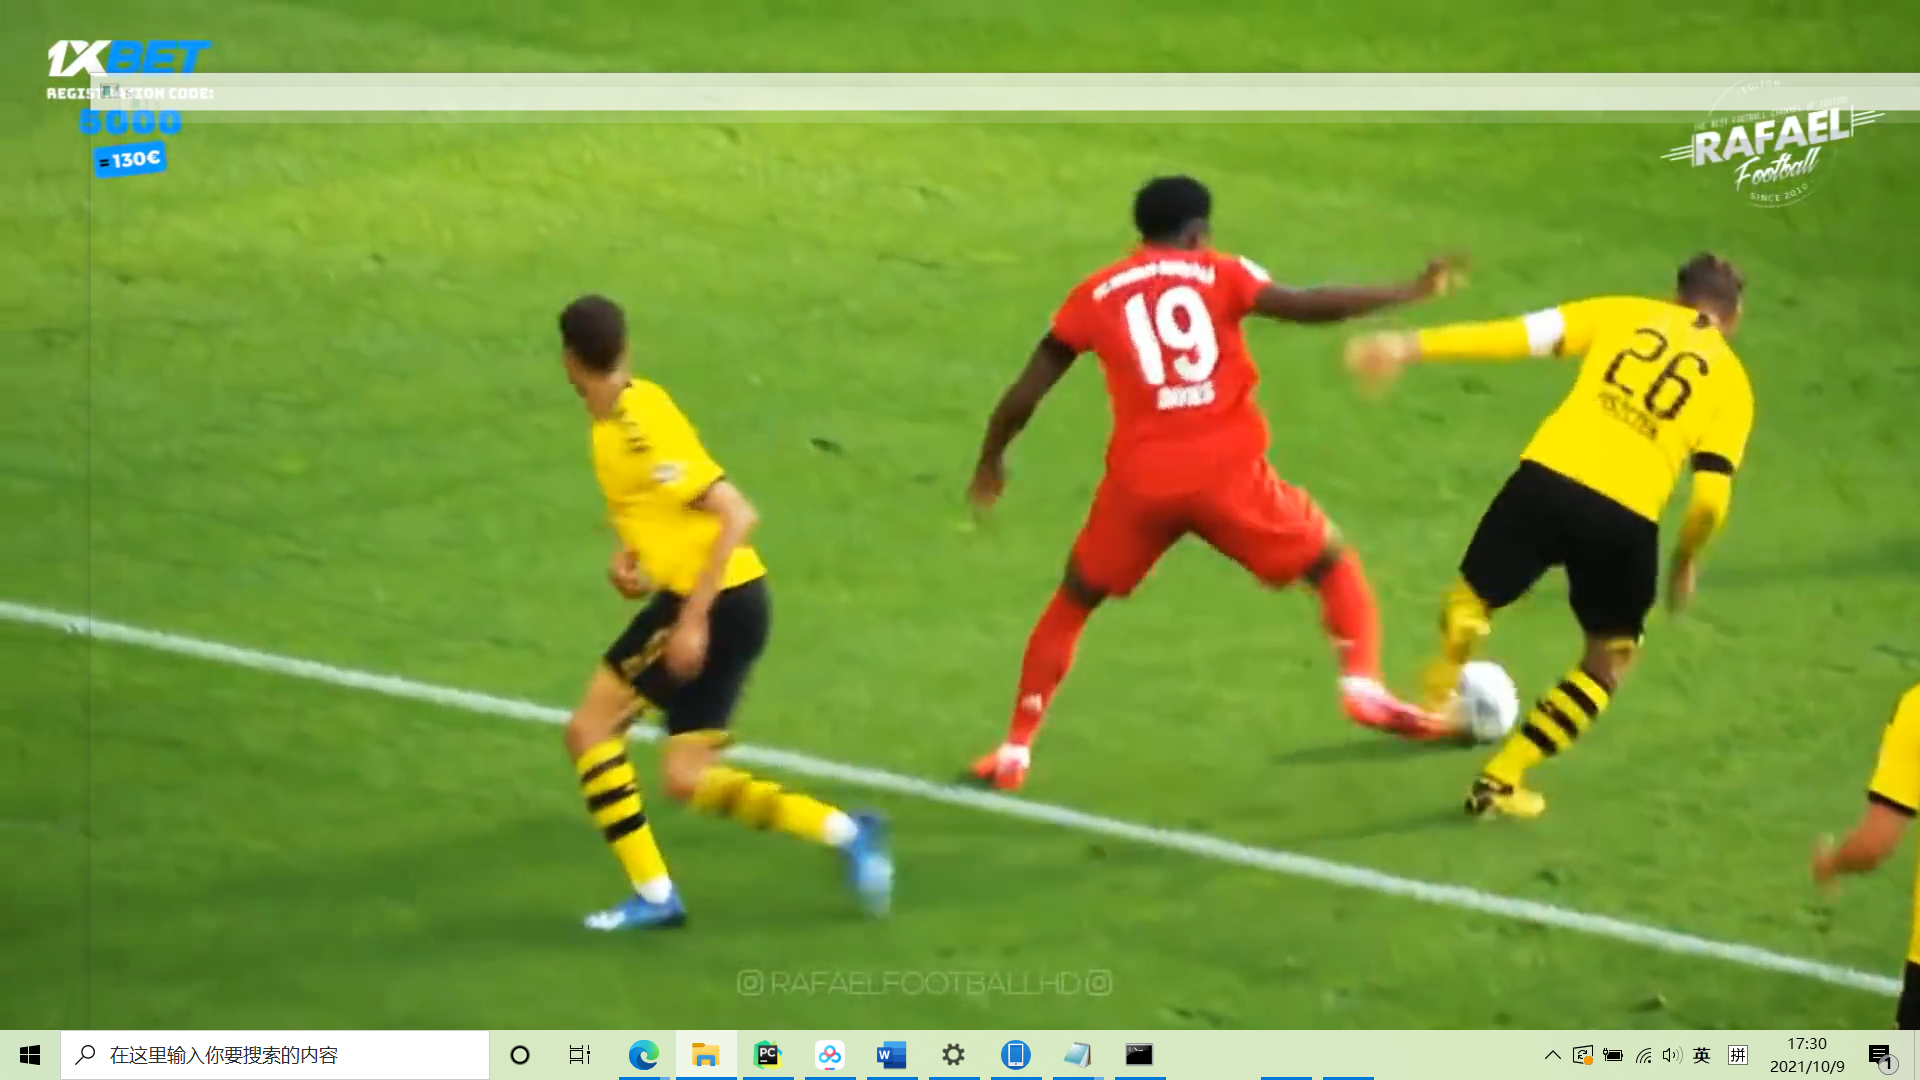ft: (1440, 655, 1516, 746)
